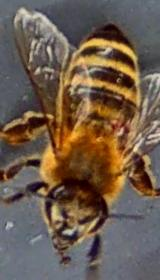varroa_mite: (102, 107, 136, 144)
